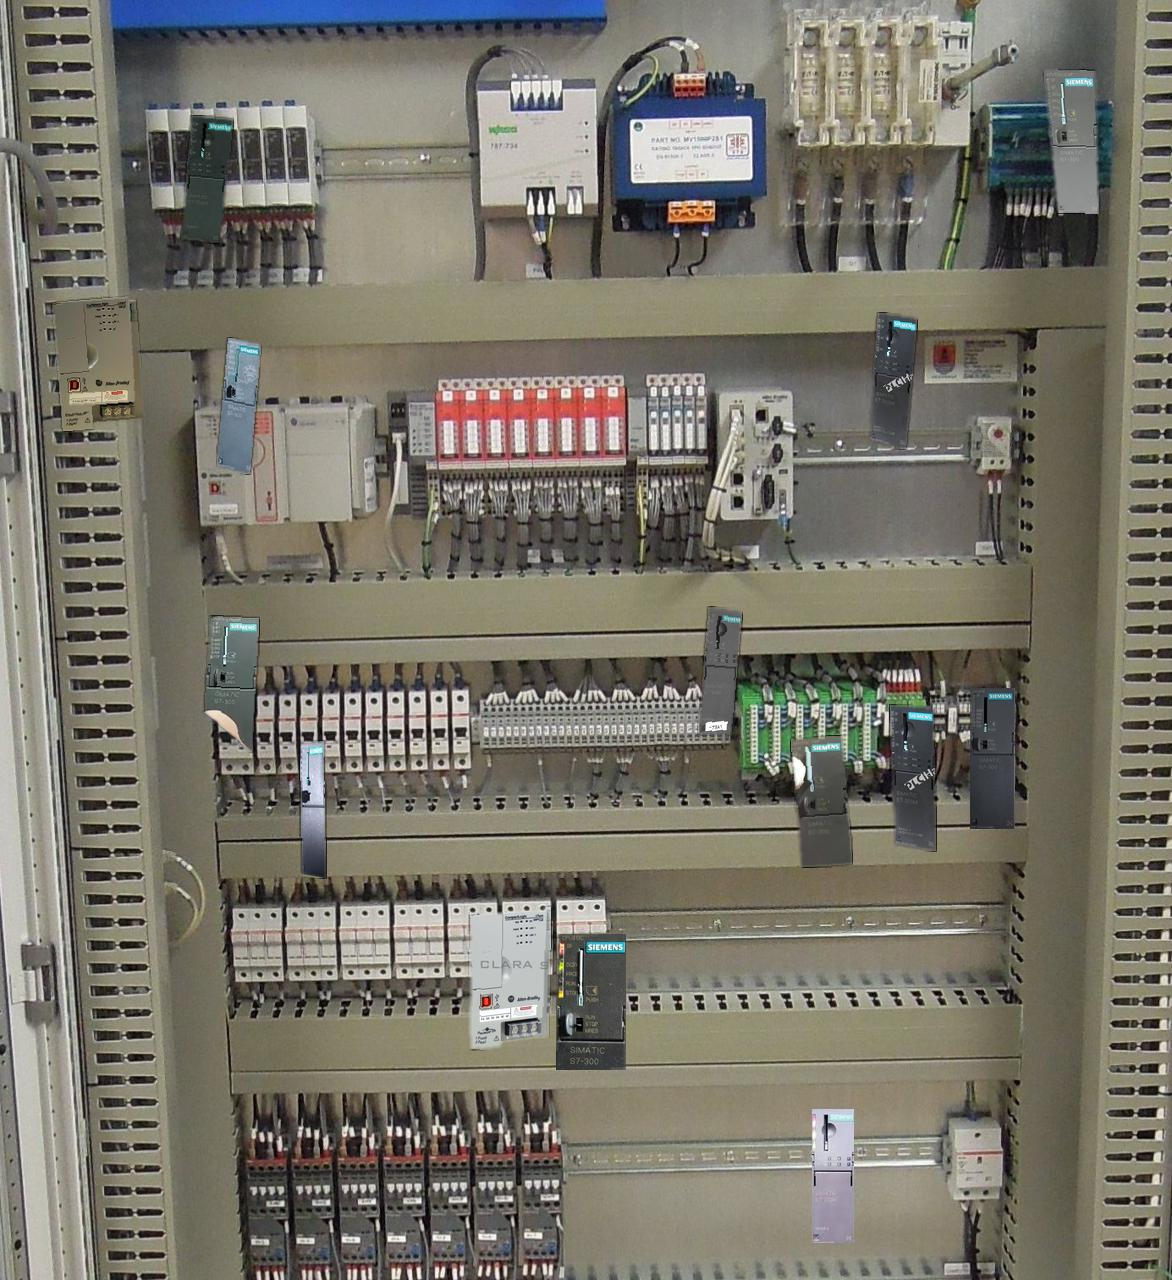AllenBradley: (54, 297, 142, 430), (469, 906, 550, 1048)
Siemens: (556, 934, 624, 1069), (791, 736, 851, 866), (1044, 70, 1098, 213), (204, 615, 258, 751), (970, 688, 1014, 828), (217, 338, 259, 473), (300, 741, 325, 877)
